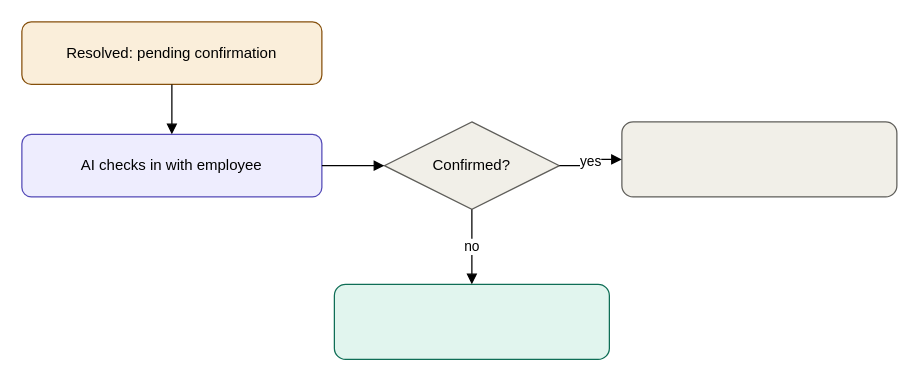
This 919x381 diagram has some shape labels left out. The shapes that lost their labels are listed below. From the top down, each one's centre as x and y in pixels, then its label:
At point (759, 159): "Closed by AI assistant (audit logged)".
At point (471, 321): "Reopened, original agent notified".
